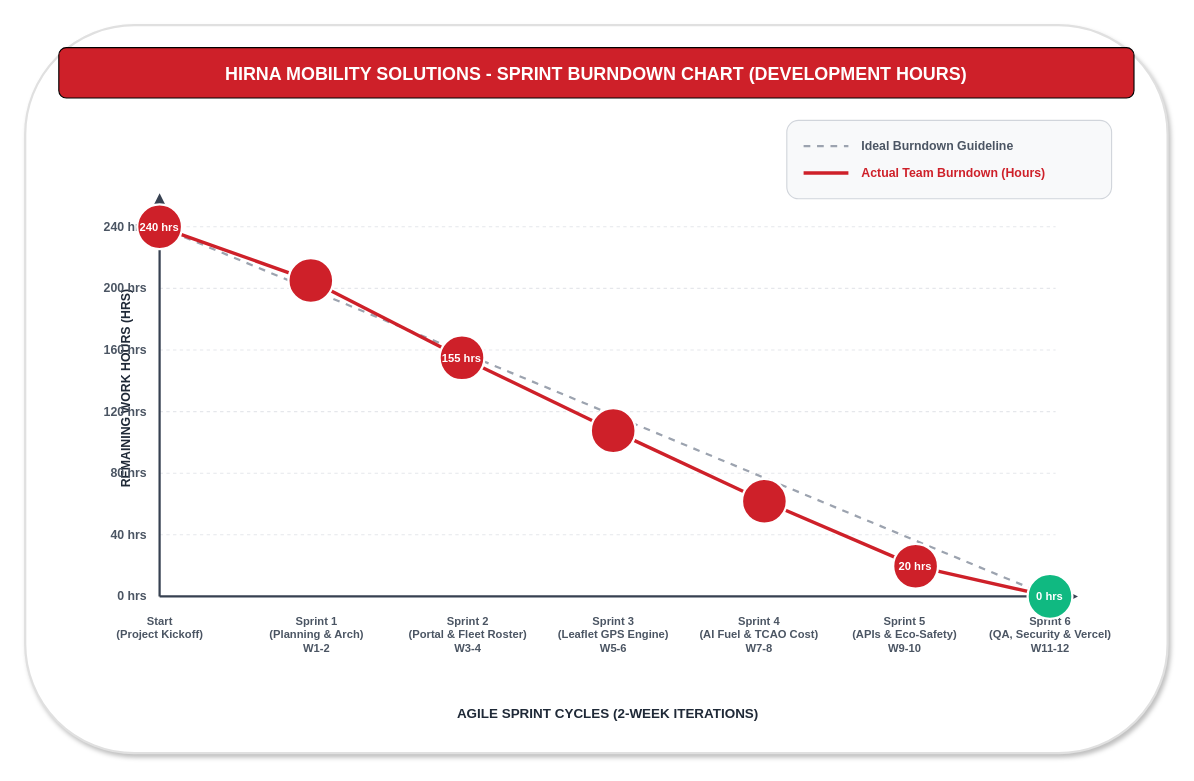
This 1194x781 diagram has some shape labels left out. Here are the shapes that lost their labels. From the top down, the centre of each, then its label:
At [310,280]: "205 hrs".
At [612,430]: "108 hrs".
At [763,500]: "62 hrs".
